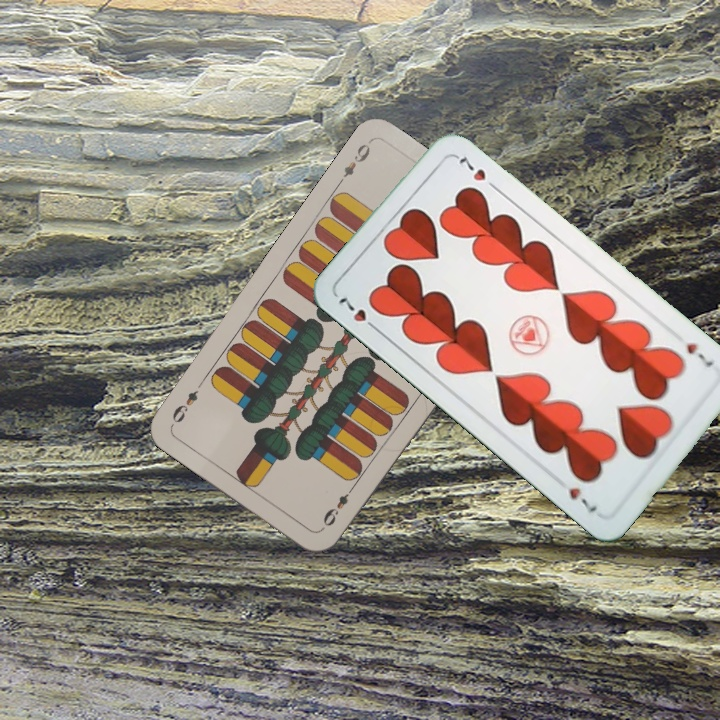E9: (333, 139, 373, 188), (318, 481, 357, 529)
H7: (334, 293, 382, 335), (682, 338, 716, 372)
